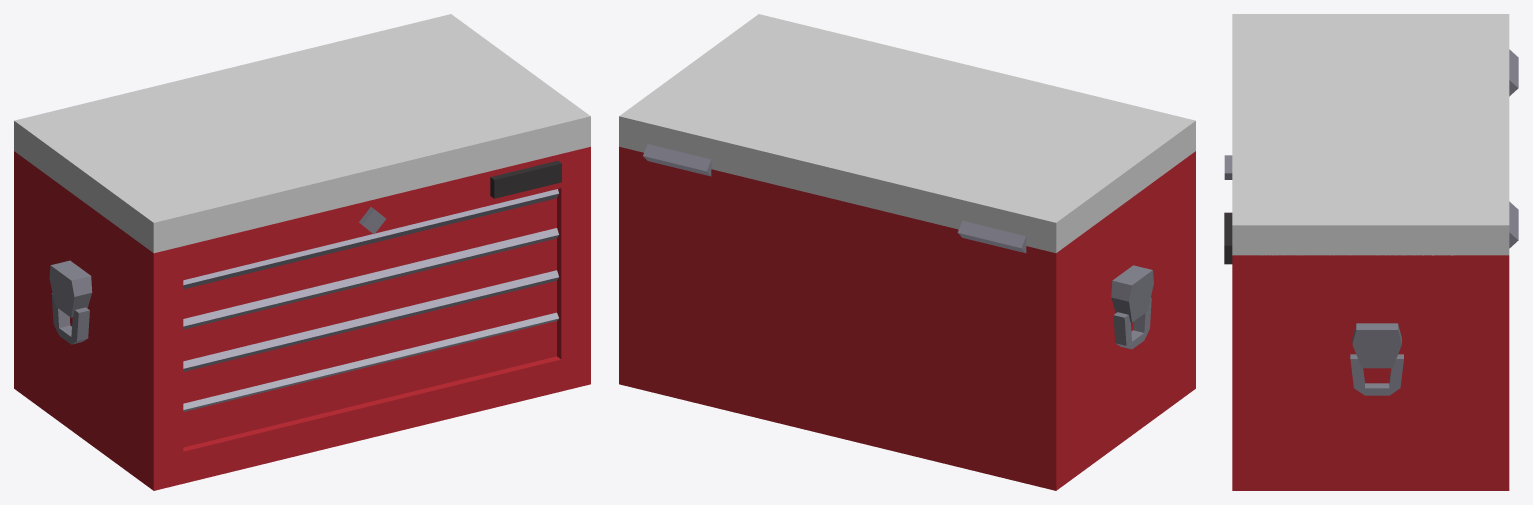
Rendered from ToolboxRed.fbx.
The picture shows the model from 3 angles, left to right: view 1: azimuth 30°, elevation 25°; view 2: azimuth 150°, elevation 25°; view 3: azimuth 270°, elevation 25°; orthographic projection.
Visible parts, largest first — view 1: Toolbox_base, ToolBox_lid; view 2: Toolbox_base, ToolBox_lid; view 3: ToolBox_lid, Toolbox_base.
Boxes of the visible parts, bbox=[...] form: Toolbox_base: bbox=[14, 146, 590, 490]; ToolBox_lid: bbox=[14, 14, 590, 253]; Toolbox_base: bbox=[619, 144, 1195, 490]; ToolBox_lid: bbox=[619, 14, 1195, 253]; ToolBox_lid: bbox=[1232, 14, 1509, 255]; Toolbox_base: bbox=[1224, 49, 1518, 490].
Size of the model in its own units: 0.7201 by 0.3916 by 0.393.
